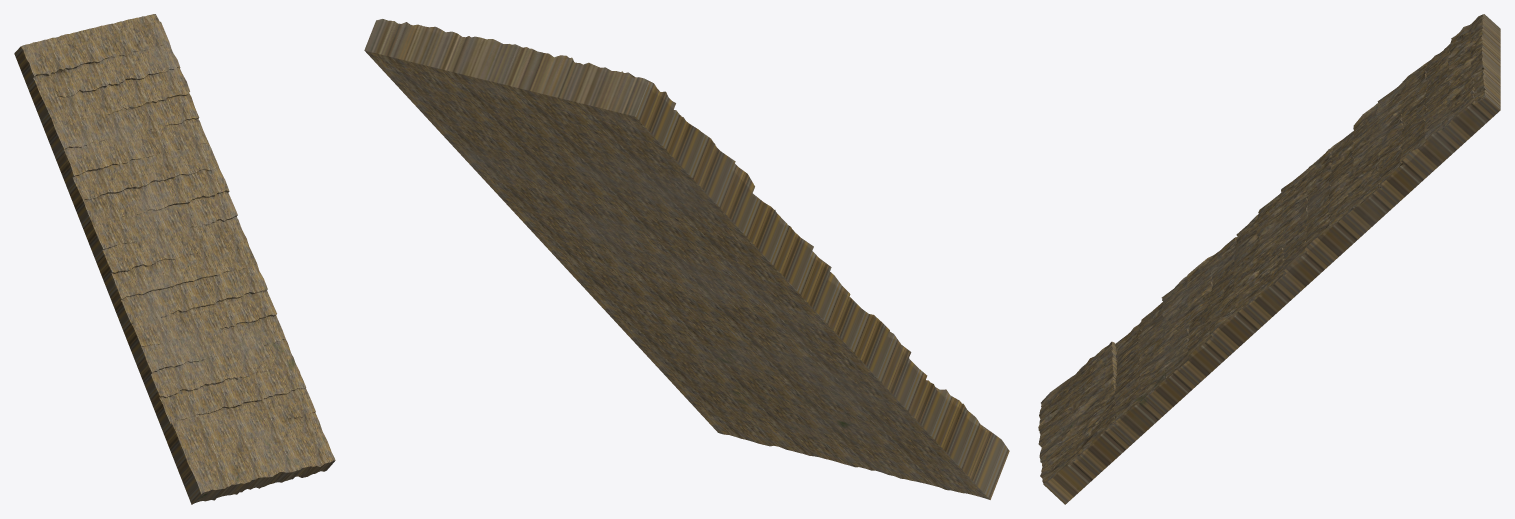
File: roof_thatch_2m.glb
3 views of the same model, side by side, from view 1: azimuth 30°, elevation 25°; view 2: azimuth 150°, elevation 25°; view 3: azimuth 270°, elevation 25° (orthographic). The views are drawn at different scales.
Visible parts, largest first — view 1: roof_thatch_2m; view 2: roof_thatch_2m; view 3: roof_thatch_2m.
Part boxes in pixels (bbox=[...]): roof_thatch_2m: bbox=[14, 14, 335, 504]; roof_thatch_2m: bbox=[364, 19, 1009, 499]; roof_thatch_2m: bbox=[1038, 14, 1500, 504].
Bounding box in the file's own units: 2.06 × 4.89 × 4.94.
Materials: 1 (1 with a texture image).
